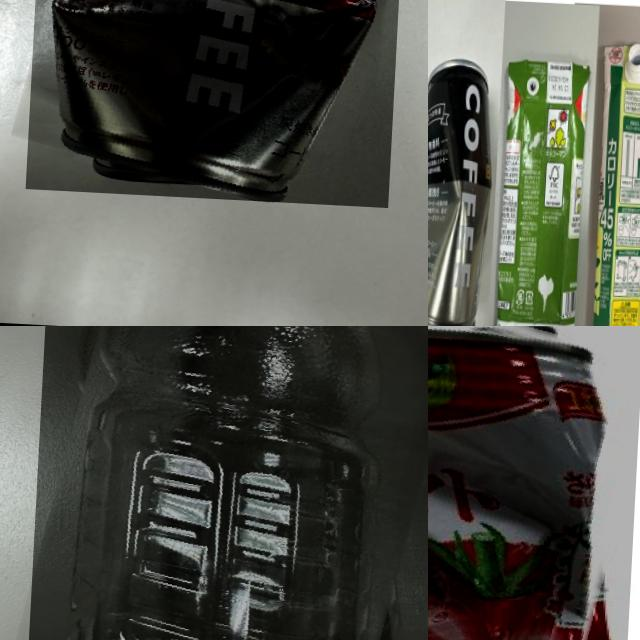Aluminium Foil: (490, 54, 591, 326), (585, 40, 640, 326)
Can: (25, 0, 408, 208), (428, 326, 640, 640), (428, 59, 496, 326)
Transparent Plastic Bottle: (21, 326, 428, 640)
